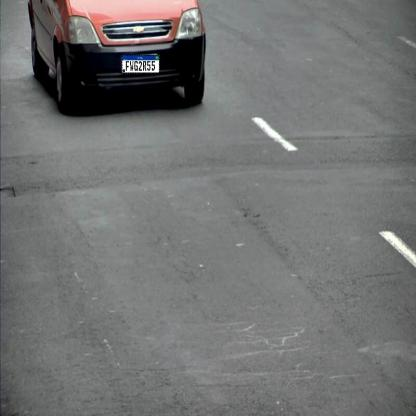PlacaM: (122, 55, 160, 73)
